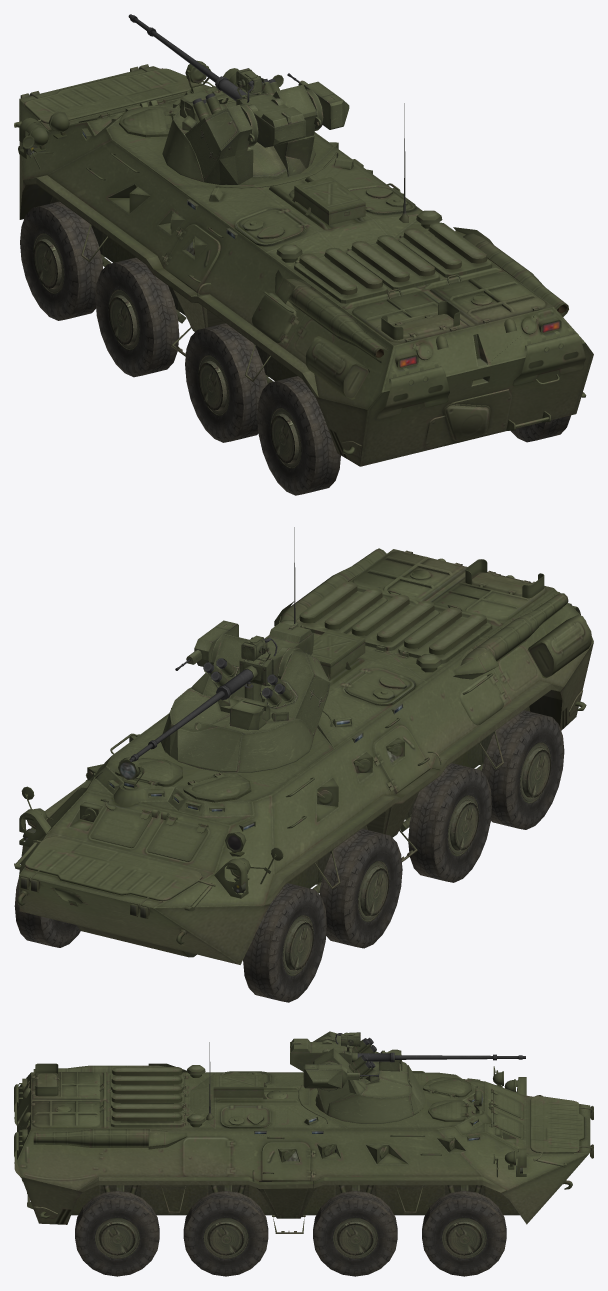
Rendered from btr82a.glb.
3 renders of one model, top to bottom at view 1: azimuth 30°, elevation 25°; view 2: azimuth 150°, elevation 25°; view 3: azimuth 270°, elevation 25°, orthographic. The views are drawn at different scales.
Visible parts, largest first — view 1: Object_37, Object_39, Object_43, Object_95, Object_41, Object_7, Object_85, Object_81, Object_89, Object_93, Object_51, Object_25 (+11 smaller); view 2: Object_37, Object_95, Object_39, Object_41, Object_43, Object_7, Object_89, Object_85, Object_93, Object_81, Object_51, Object_25 (+14 smaller); view 3: Object_37, Object_39, Object_43, Object_95, Object_41, Object_87, Object_91, Object_79, Object_83, Object_51, Object_21, Object_7 (+14 smaller).
Boxes of the visible parts, x1,y1,x2,y2 form: Object_37: [19, 66, 593, 466]; Object_39: [285, 233, 585, 449]; Object_43: [209, 152, 586, 457]; Object_95: [162, 84, 323, 184]; Object_41: [14, 60, 283, 229]; Object_7: [252, 177, 493, 399]; Object_85: [95, 257, 179, 377]; Object_81: [20, 201, 102, 320]; Object_89: [185, 323, 267, 442]; Object_93: [257, 376, 340, 495]; Object_51: [215, 76, 349, 147]; Object_25: [163, 224, 220, 292]; Object_37: [19, 549, 593, 964]; Object_95: [161, 633, 330, 772]; Object_39: [279, 548, 580, 666]; Object_41: [14, 757, 370, 944]; Object_43: [260, 582, 586, 726]; Object_7: [274, 601, 591, 725]; Object_89: [408, 763, 492, 882]; Object_85: [319, 829, 402, 948]; Object_93: [481, 710, 564, 829]; Object_81: [243, 883, 326, 1002]; Object_51: [186, 620, 313, 700]; Object_25: [373, 725, 430, 793]; Object_37: [17, 1071, 590, 1224]; Object_39: [14, 1063, 169, 1181]; Object_43: [27, 1065, 327, 1218]; Object_95: [313, 1031, 425, 1123]; Object_41: [323, 1066, 593, 1189]; Object_87: [183, 1191, 268, 1276]; Object_91: [75, 1191, 159, 1276]; Object_79: [422, 1191, 506, 1276]; Object_83: [313, 1191, 397, 1276]; Object_51: [290, 1038, 394, 1088]; Object_21: [261, 1142, 310, 1181]; Object_7: [148, 1063, 266, 1149].
Size of the model in its own units: 2.91 by 3.2 by 7.7.
4 materials, 4 textured.
